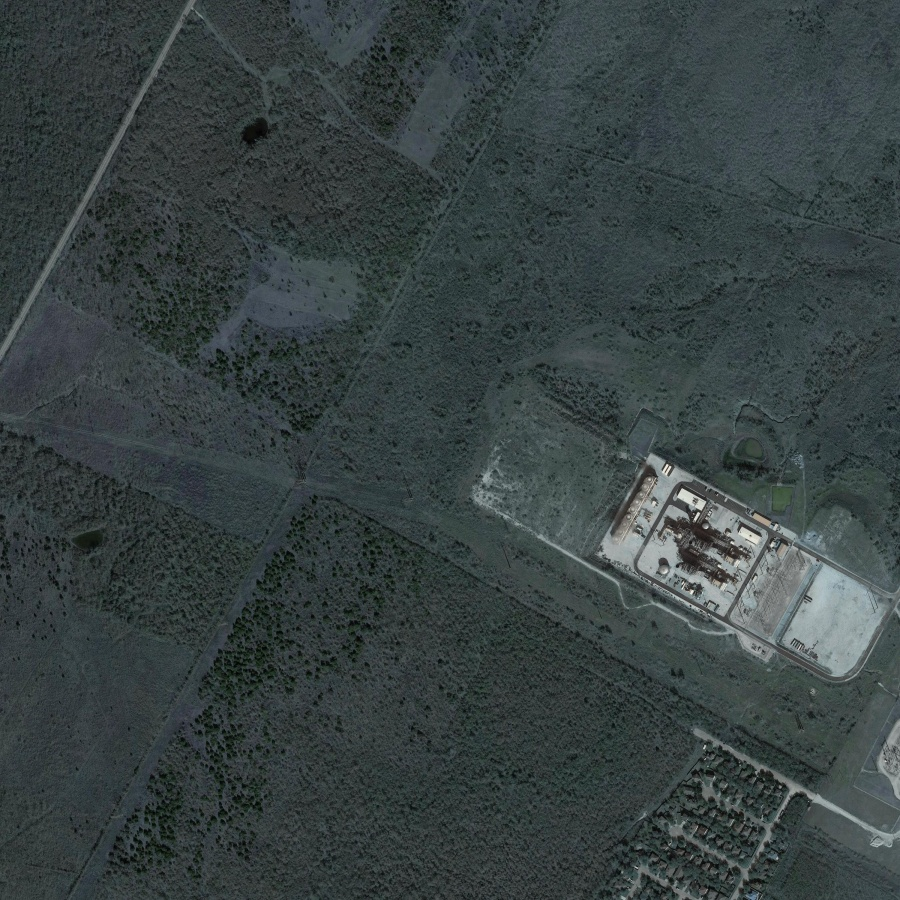PowerPlant: (601, 456, 811, 646)
